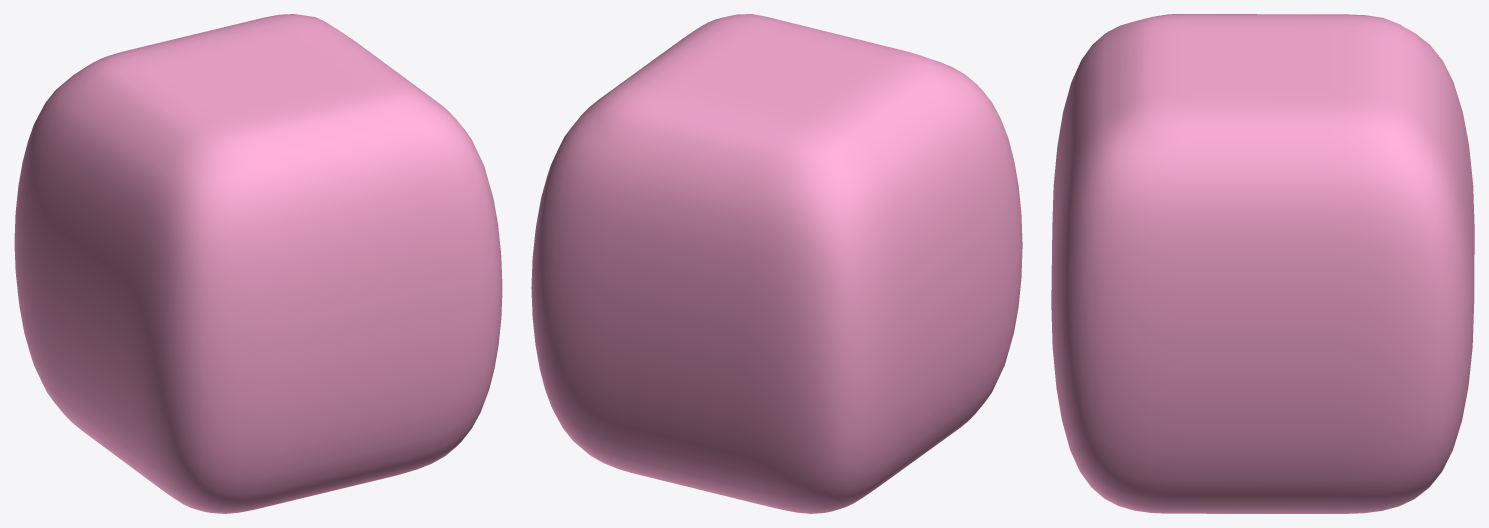
Rendered from pink_body.fbx.
3 views of the same model, side by side, from view 1: azimuth 30°, elevation 25°; view 2: azimuth 150°, elevation 25°; view 3: azimuth 270°, elevation 25° (orthographic). The views are drawn at different scales.
Visible parts, largest first — view 1: pink_body; view 2: pink_body; view 3: pink_body.
Boxes of the visible parts, left/top/right/bottom form: pink_body: left=14, top=14, right=502, bottom=513; pink_body: left=531, top=14, right=1022, bottom=513; pink_body: left=1051, top=14, right=1474, bottom=513.
Bounding box in the file's own units: 0.9746 × 1.01 × 0.9751.
Materials: 1 (1 with a texture image).
